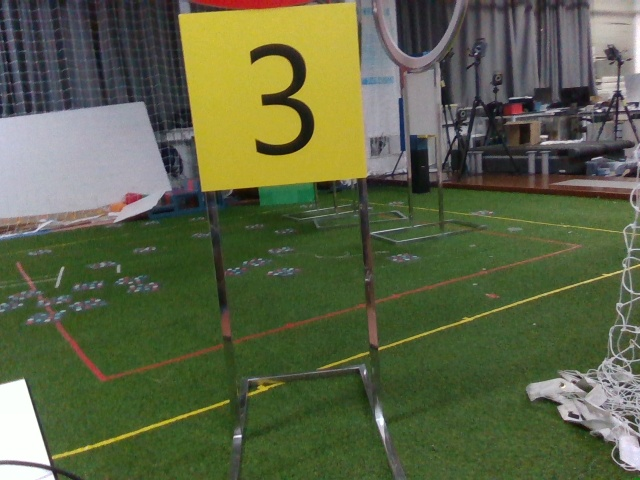target: (202, 16, 354, 180)
